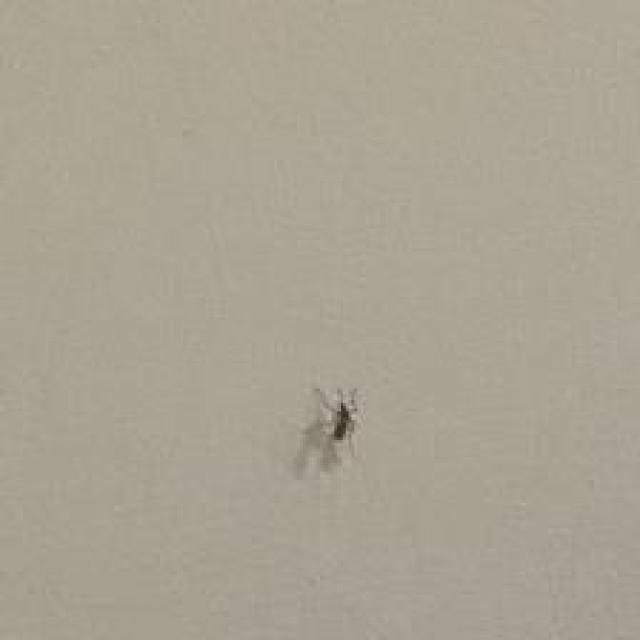Culex: (291, 384, 363, 479)
